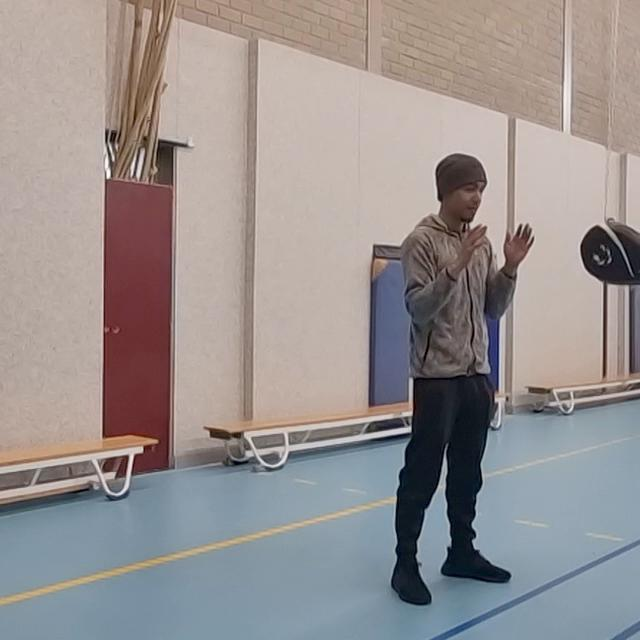paddle: (578, 216, 640, 289)
